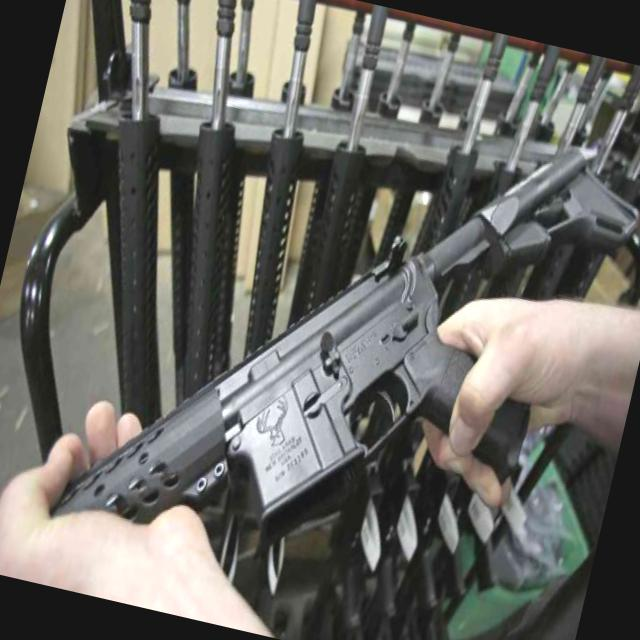handgun: (177, 208, 563, 604)
